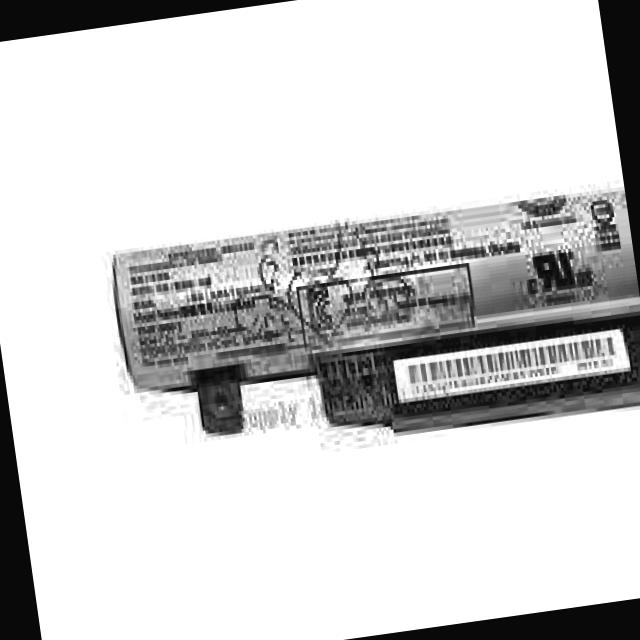Battery: (101, 168, 640, 476)
